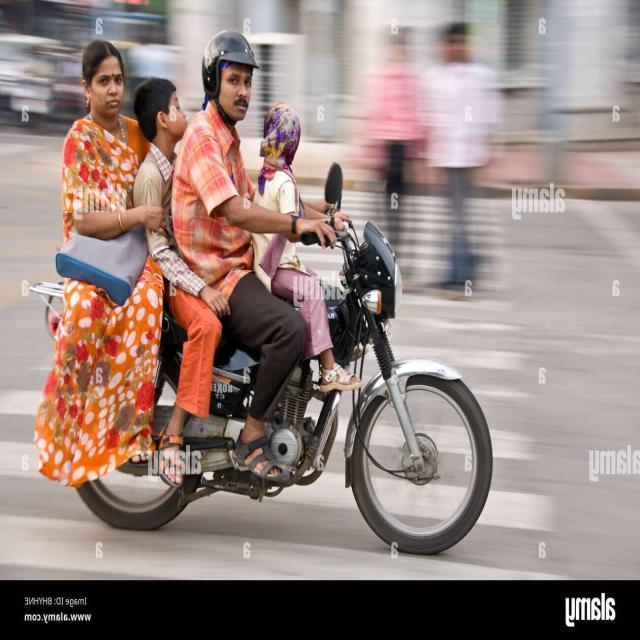motorcycle: (24, 216, 496, 560)
person: (58, 34, 150, 395), (182, 28, 274, 376), (128, 77, 202, 304), (246, 102, 311, 303)
rider_region: (55, 29, 501, 554)
